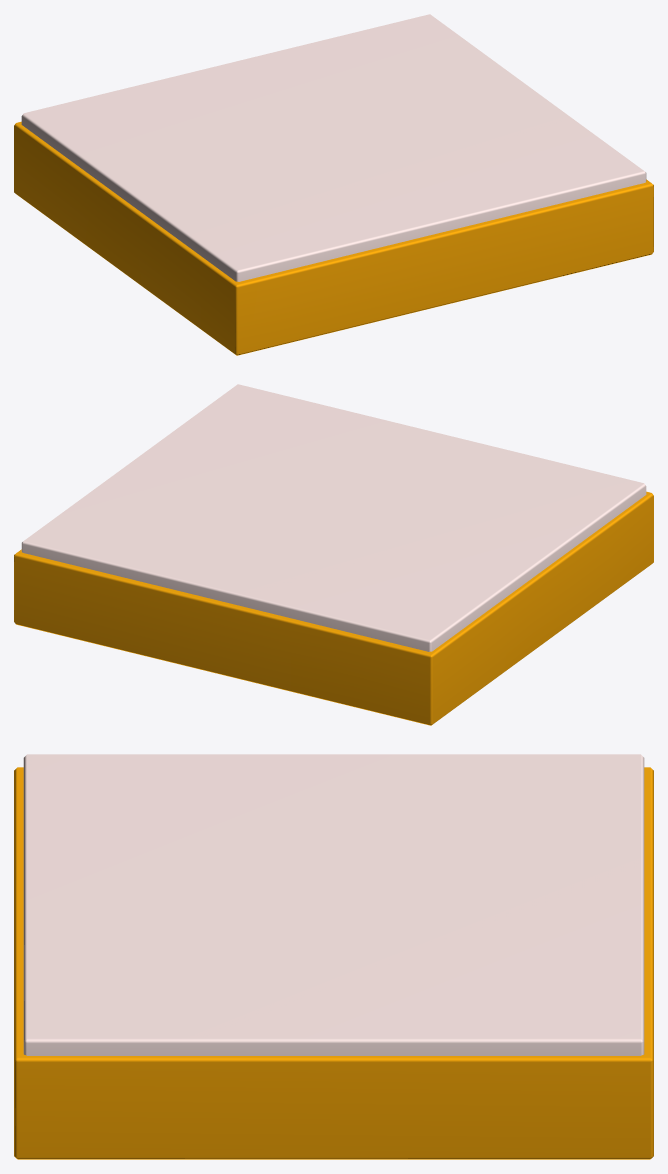
Rendered from Store_18_Base_1.glb.
The picture shows the model from 3 angles, top to bottom: view 1: azimuth 30°, elevation 25°; view 2: azimuth 150°, elevation 25°; view 3: azimuth 270°, elevation 25°; orthographic projection. The views are drawn at different scales.
Parts seen in each view (by area): view 1: Store_18_Base_1; view 2: Store_18_Base_1; view 3: Store_18_Base_1.
Part boxes in pixels (x1=…): Store_18_Base_1: x1=14, y1=14, x2=653, y2=355; Store_18_Base_1: x1=14, y1=384, x2=653, y2=725; Store_18_Base_1: x1=14, y1=754, x2=653, y2=1159.
Bounding box in the file's own units: 8.63 × 1.62 × 7.96.
Materials: 1 (1 with a texture image).
